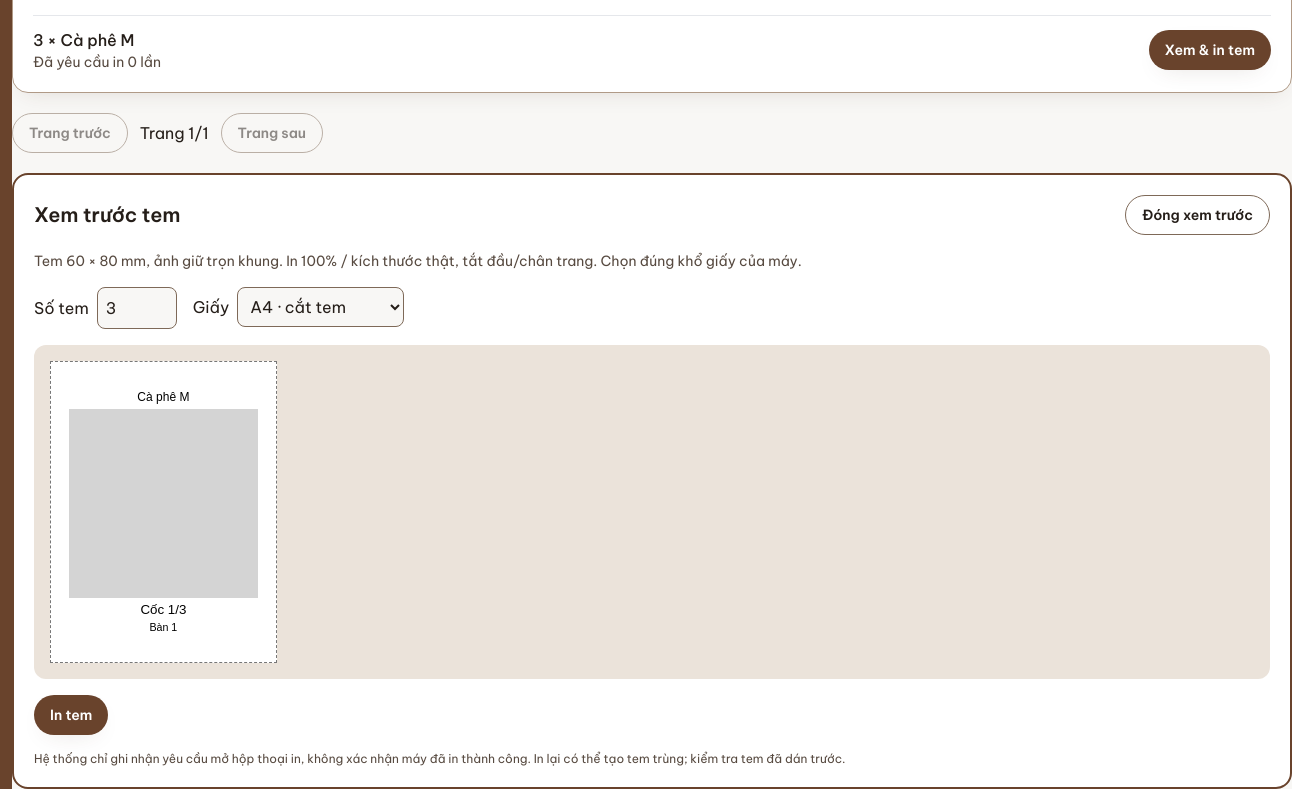
Test case: staff cup label preview and intent › keeps uncertain request immutable and retries the exact print intent
Earlier steps of the test are not shown.
Later steps or results of the test are not shown.
(page scrolled)
Step 1. Click the button "In tem" → coordinates (71, 715), box [34,695,108,735]
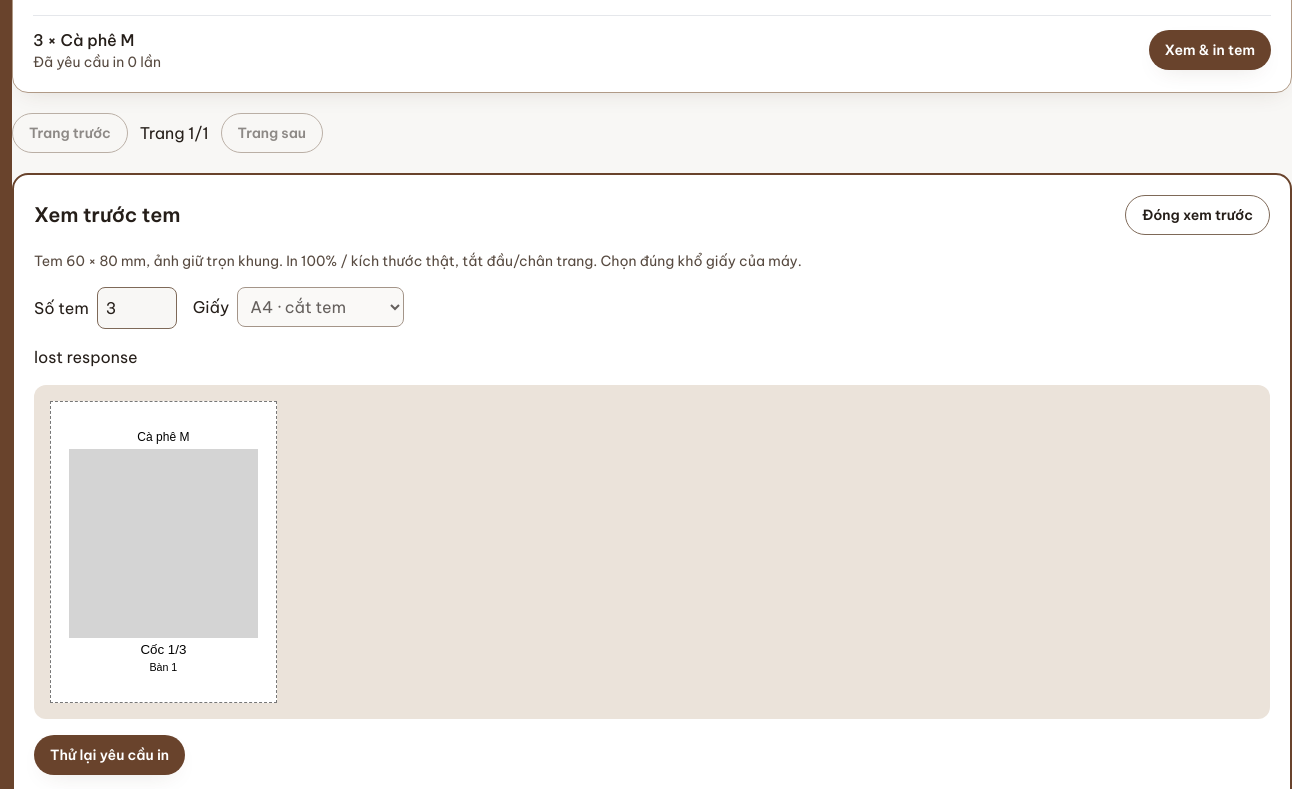
Expected: the text "lost response" is shown, [34,347,138,367]
Expected: the dropdown named "Khổ giấy" is disabled, [237,287,404,327]
